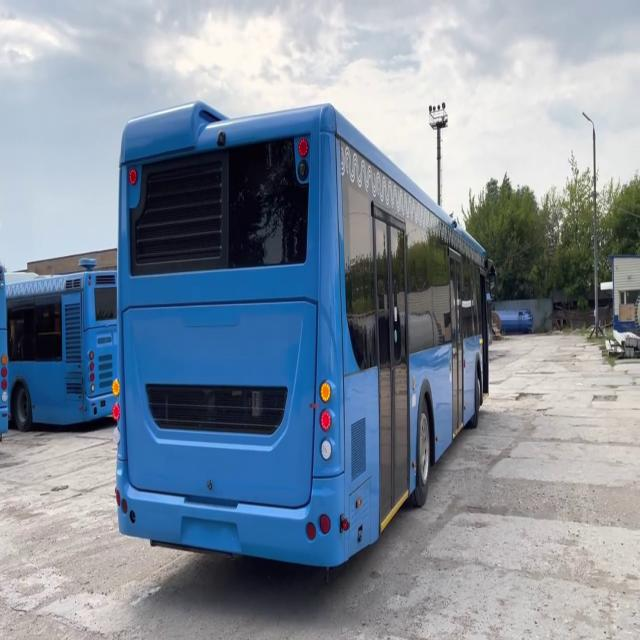bus: (112, 94, 498, 576)
